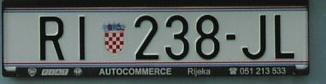-: (224, 31, 238, 43)
2: (131, 12, 161, 61)
3: (165, 14, 189, 61)
8: (194, 12, 221, 61)
I: (76, 14, 89, 62)
J: (242, 14, 268, 60)
L: (273, 13, 296, 59)
R: (40, 14, 66, 62)
